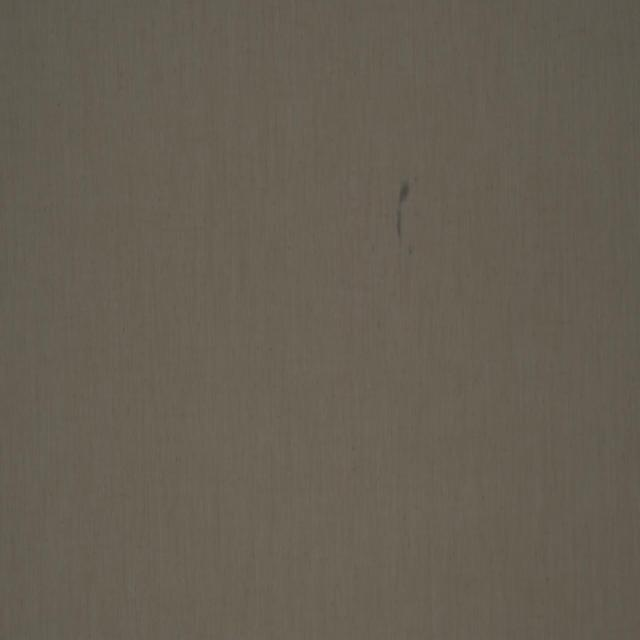dirty: (394, 174, 410, 246)
